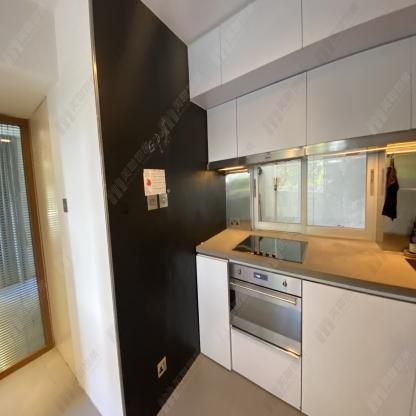Cupboard: (190, 1, 415, 163), (197, 256, 414, 416)
Exhaust Hood: (211, 145, 309, 168)
Oven: (231, 261, 303, 356)
Stove: (236, 234, 307, 265)
